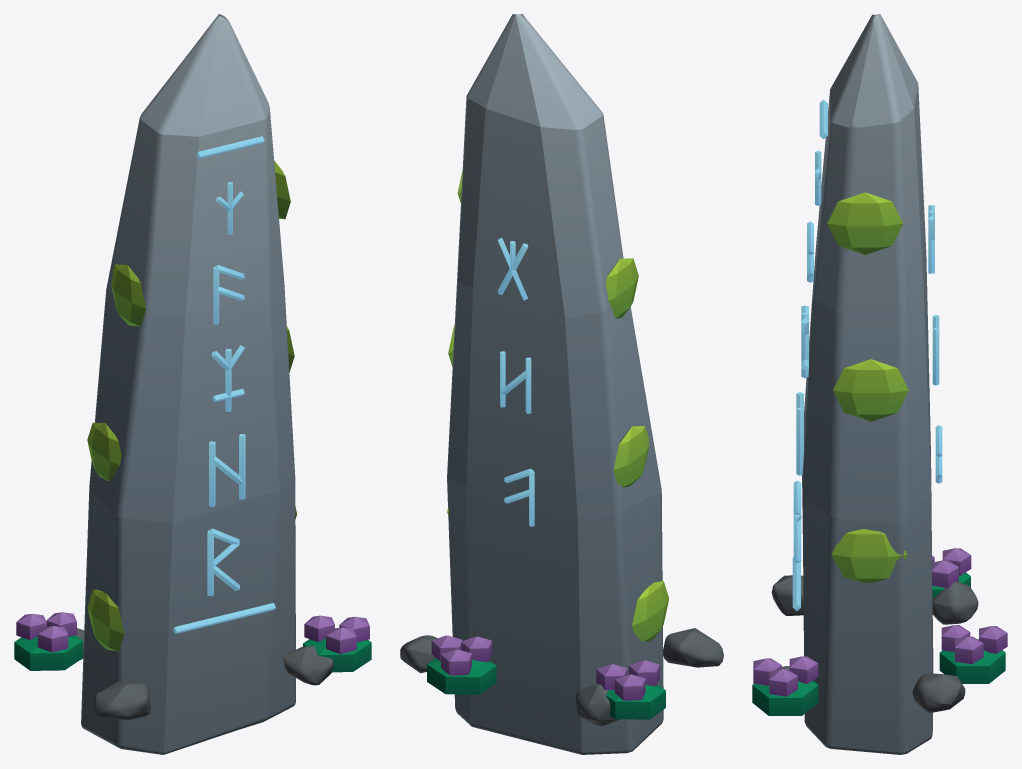
The model's file is rune_menhir.glb.
3 renders of one model, left to right at view 1: azimuth 30°, elevation 25°; view 2: azimuth 150°, elevation 25°; view 3: azimuth 270°, elevation 25°, orthographic. The views are drawn at different scales.
Parts seen in each view (by area): view 1: rune_menhir; view 2: rune_menhir; view 3: rune_menhir.
Boxes of the visible parts, x1,y1,x2,y2 form: rune_menhir: (14,14,371,754); rune_menhir: (400,14,723,754); rune_menhir: (752,14,1007,754).
Bounding box in the file's own units: 2.34 × 5.71 × 1.84.
Materials: 3 (3 with a texture image).
